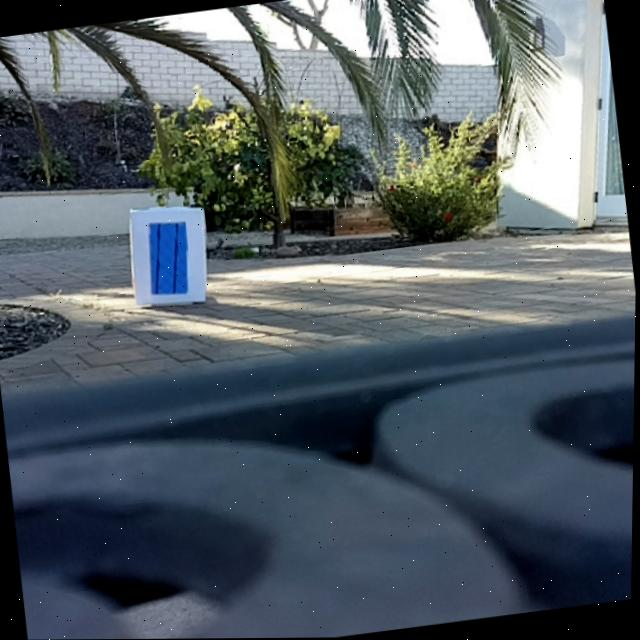led: (143, 219, 194, 297)
